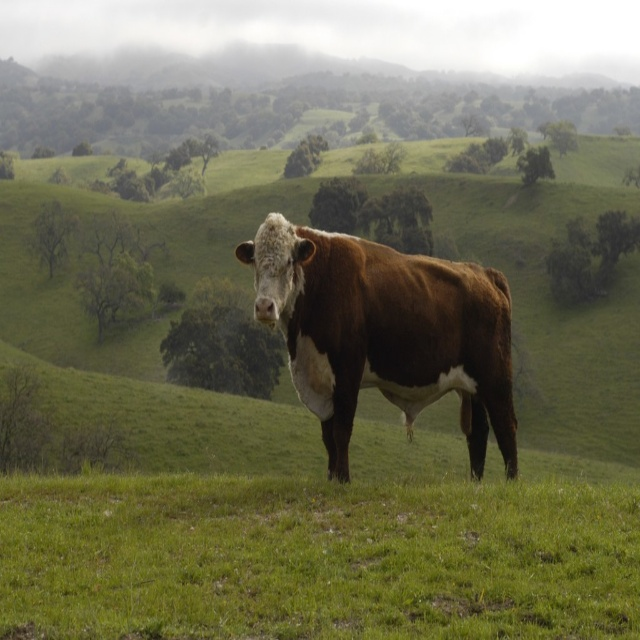Cattle: (235, 212, 519, 482)
